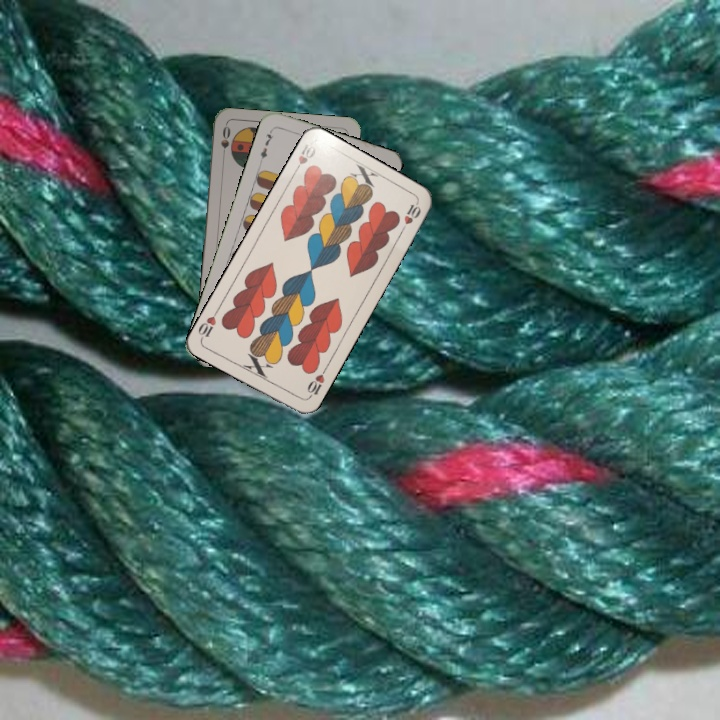E7: (256, 126, 277, 165)
H10: (289, 140, 318, 177), (303, 364, 329, 401)
SO: (217, 122, 233, 163)
